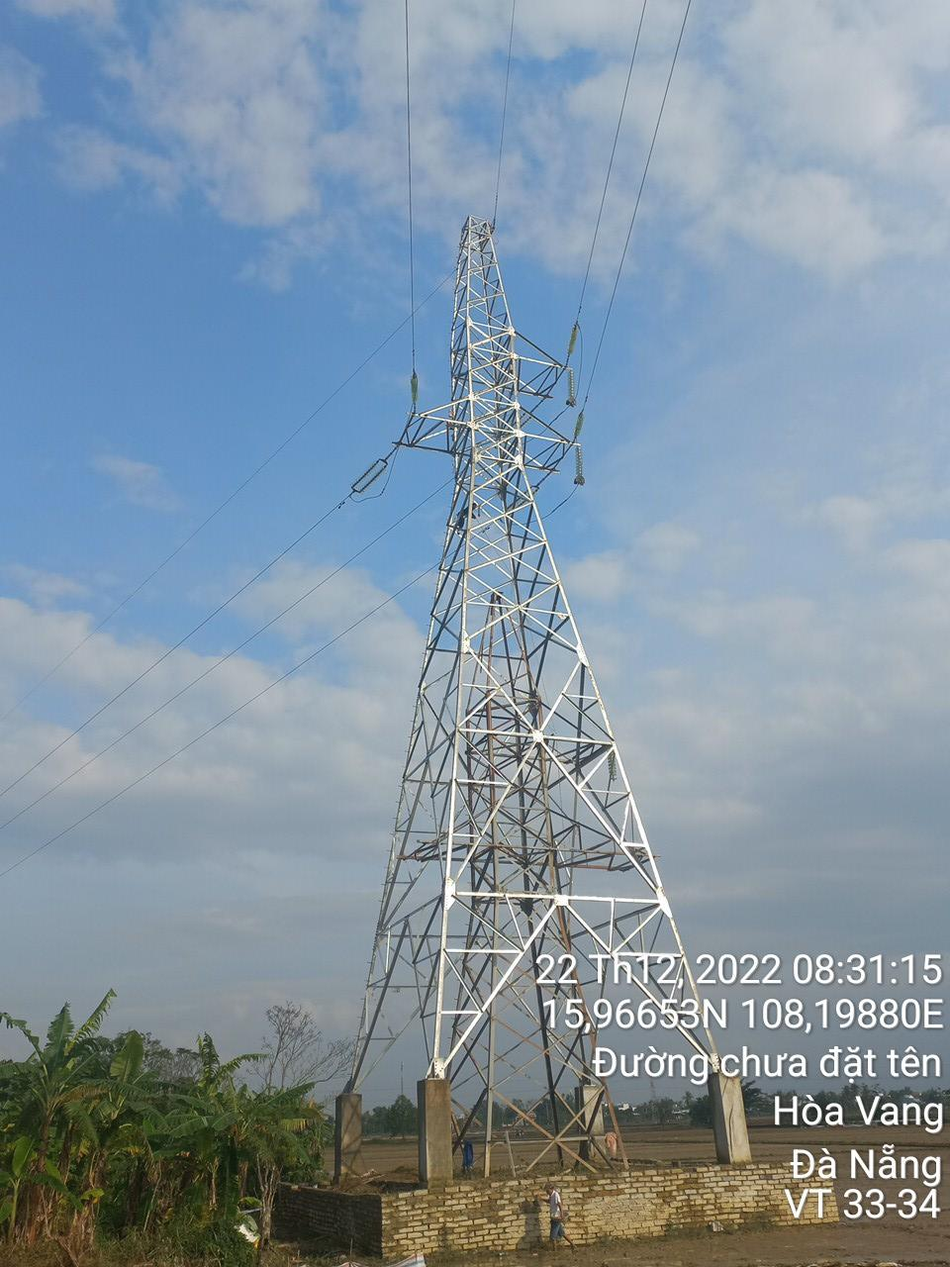power_tower: (359, 195, 673, 944)
